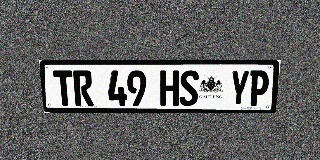4: (107, 70, 127, 106)
9: (127, 70, 146, 106)
H: (160, 70, 179, 106)
P: (248, 70, 270, 106)
R: (73, 70, 94, 106)
S: (179, 70, 199, 106)
T: (53, 70, 75, 106)
Y: (229, 70, 250, 106)
